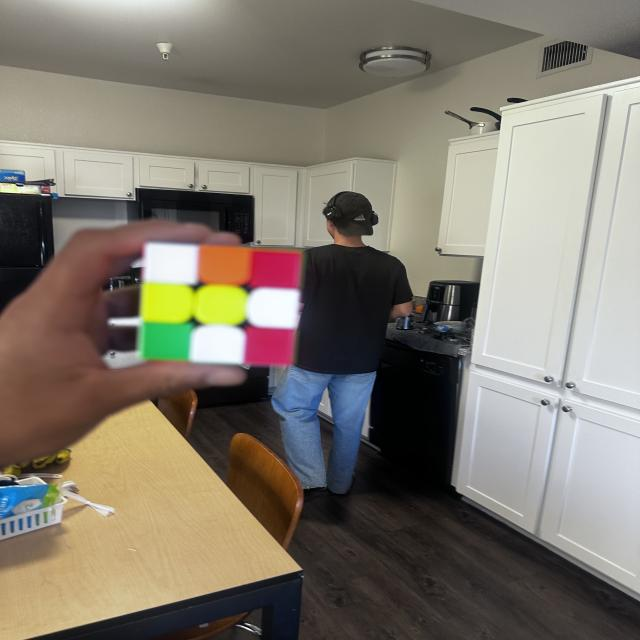sticker: (146, 242, 199, 286), (246, 288, 300, 330), (140, 283, 195, 323), (194, 285, 246, 327), (190, 327, 246, 365), (248, 250, 303, 288), (140, 323, 192, 363), (245, 326, 297, 366), (201, 245, 249, 284)
